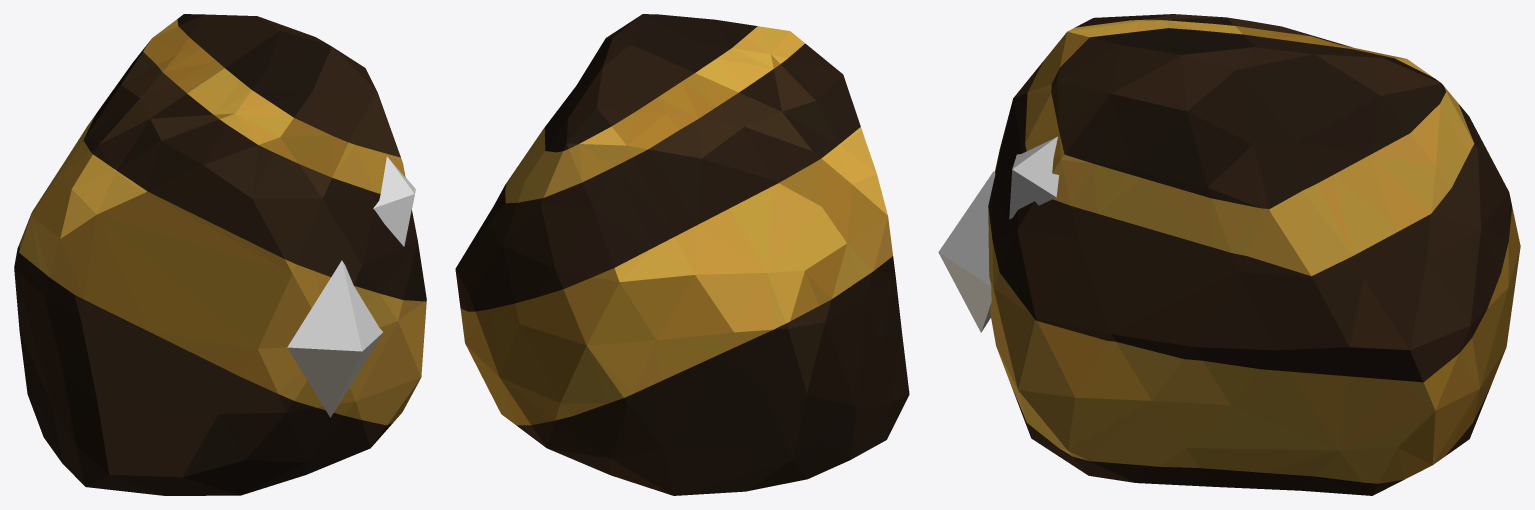
File: Infinity_Core.glb
The picture shows the model from 3 angles, left to right: view 1: azimuth 30°, elevation 25°; view 2: azimuth 150°, elevation 25°; view 3: azimuth 270°, elevation 25°; orthographic projection. The views are drawn at different scales.
Visible parts, largest first — view 1: Infinity_Core; view 2: Infinity_Core; view 3: Infinity_Core.
Boxes of the visible parts, <box> form: Infinity_Core: <box>14,14,426,495</box>; Infinity_Core: <box>455,14,909,495</box>; Infinity_Core: <box>938,14,1520,495</box>.
Size of the model in its own units: 0.7966 by 0.8117 by 0.9857.
